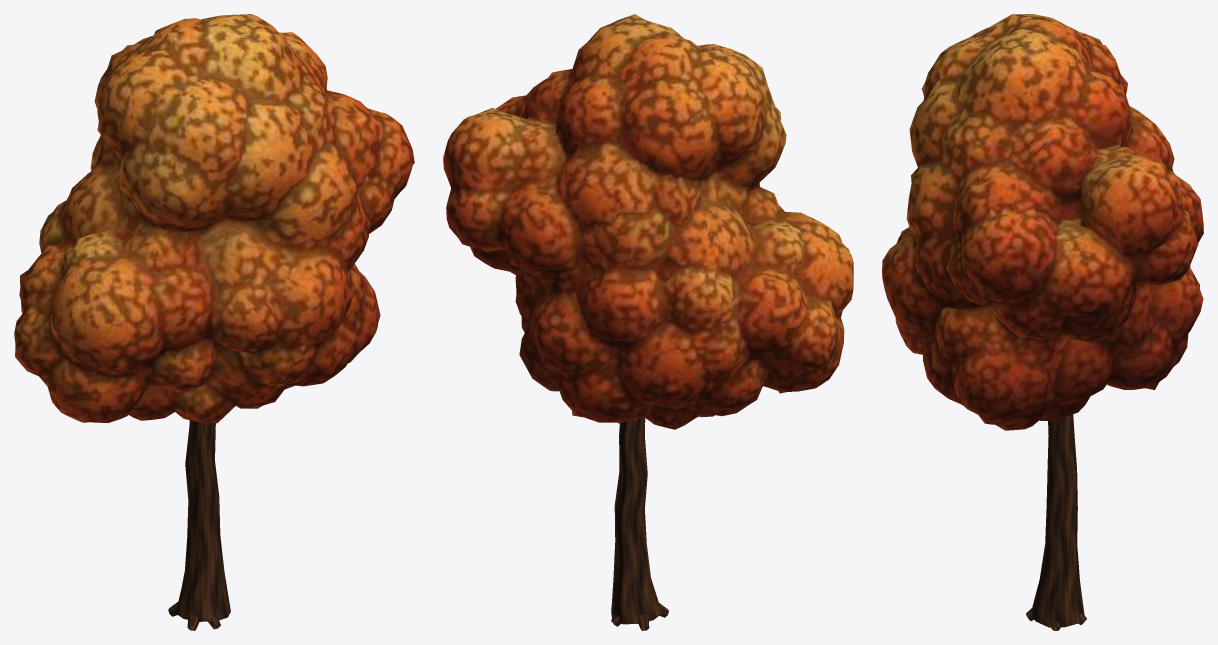
The model's file is tree_maple_red_lod1.glb.
The picture shows the model from 3 angles, left to right: view 1: azimuth 30°, elevation 25°; view 2: azimuth 150°, elevation 25°; view 3: azimuth 270°, elevation 25°; orthographic projection. The views are drawn at different scales.
Visible parts, largest first — view 1: tree_maple_red_crown1, trunk.001; view 2: tree_maple_red_crown1, trunk.001; view 3: tree_maple_red_crown1, trunk.001.
Boxes of the visible parts, x1,y1,x2,y2 form: tree_maple_red_crown1: (14, 14, 414, 423); trunk.001: (168, 420, 230, 630); tree_maple_red_crown1: (443, 14, 853, 429); trunk.001: (611, 416, 668, 630); tree_maple_red_crown1: (882, 14, 1203, 430); trunk.001: (1026, 414, 1086, 630).
Size of the model in its own units: 2.7 by 4.18 by 2.07.
Materials: 2 (2 with a texture image).
